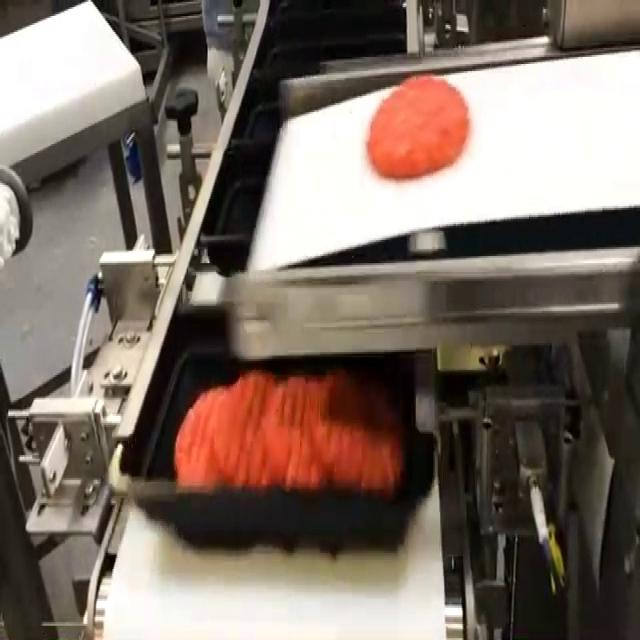4-hamburguer: (173, 370, 403, 494)
